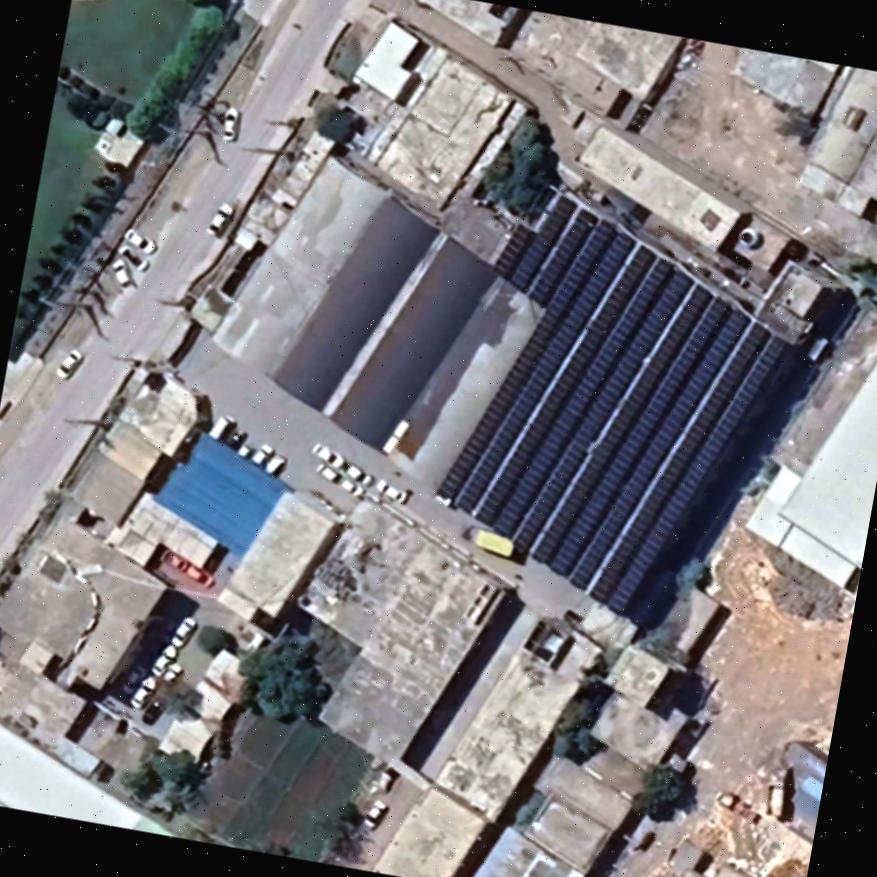Solarpanel: (369, 170, 798, 630)
